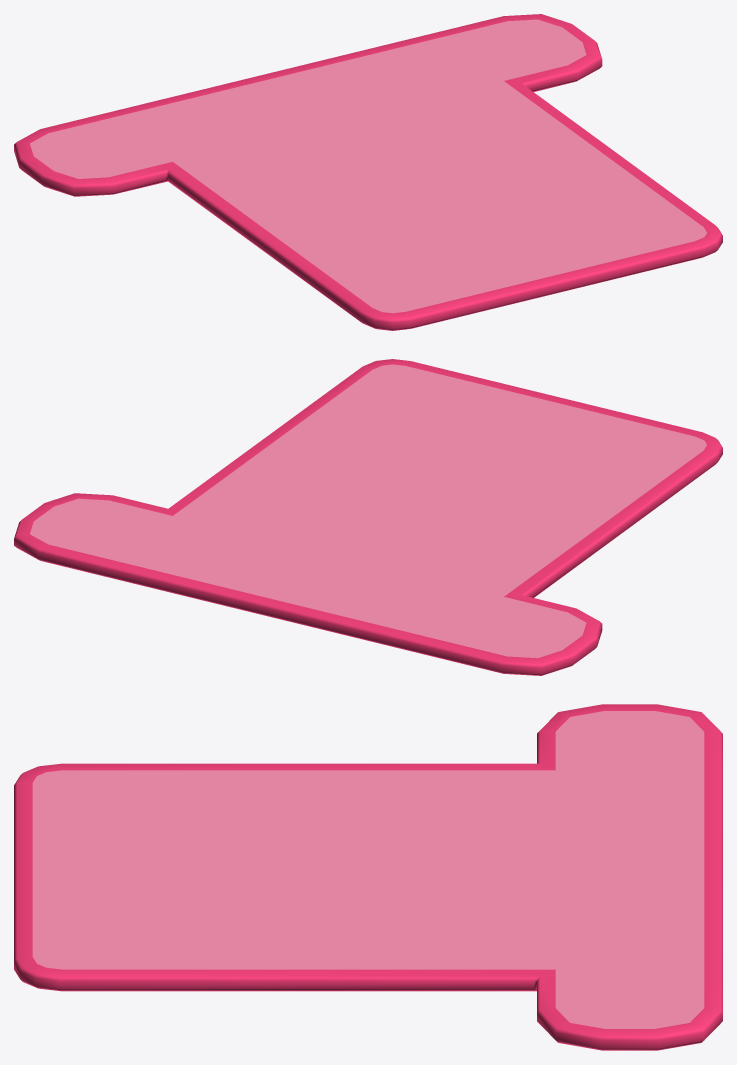
Rendered from Store_18_Slice_Ham_1.glb.
3 views of the same model, one above another, from view 1: azimuth 30°, elevation 25°; view 2: azimuth 150°, elevation 25°; view 3: azimuth 270°, elevation 25° (orthographic). The views are drawn at different scales.
Parts seen in each view (by area): view 1: Store_18_Slice_Ham_1; view 2: Store_18_Slice_Ham_1; view 3: Store_18_Slice_Ham_1.
Boxes of the visible parts, x1,y1,x2,y2 form: Store_18_Slice_Ham_1: [14, 14, 722, 330]; Store_18_Slice_Ham_1: [14, 359, 722, 675]; Store_18_Slice_Ham_1: [14, 704, 722, 1050].
Bounding box in the file's own units: 0.2291 × 0.00483 × 0.2056.
1 material, 1 textured.
